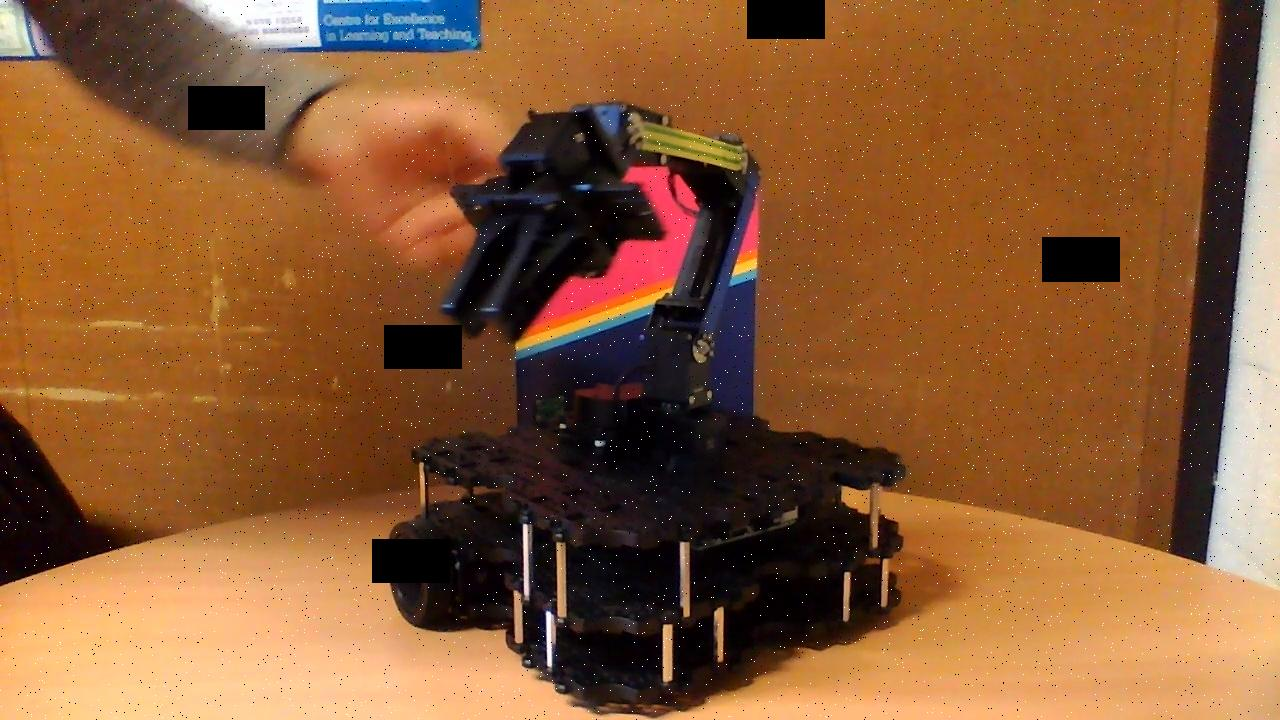Arm: (638, 162, 761, 362)
Hand: (438, 104, 668, 345)
Wrist: (615, 102, 752, 178)
base: (382, 374, 913, 708)
